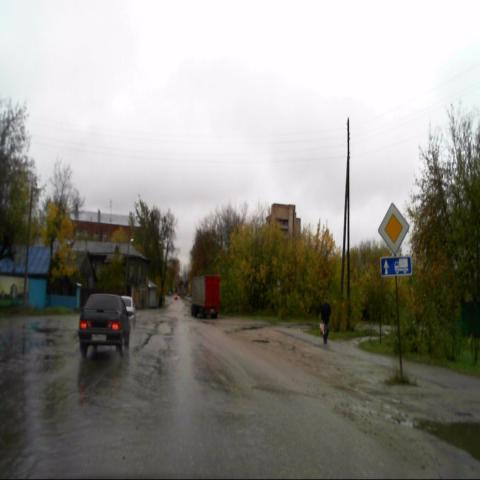6_15_1: (380, 256, 412, 277)
